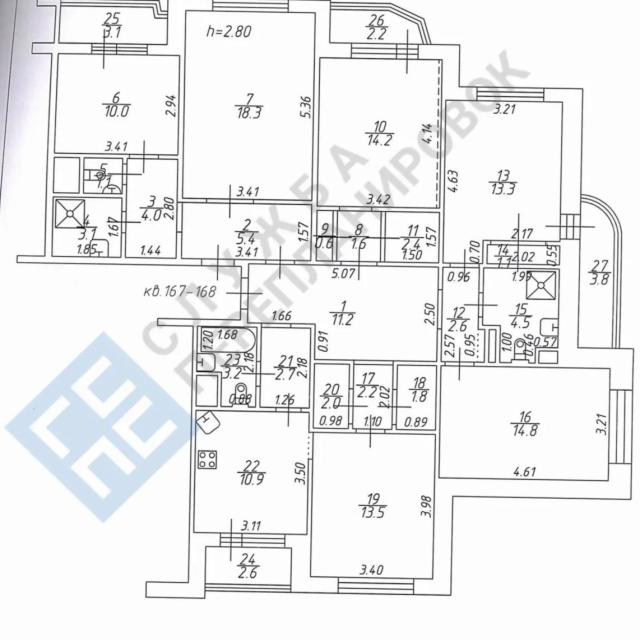Bathrooms: (484, 268, 559, 362), (197, 327, 257, 406), (53, 197, 122, 256), (83, 158, 122, 193)
Corridors: (249, 265, 438, 360), (182, 203, 311, 260), (578, 202, 613, 348), (126, 159, 177, 257), (260, 328, 310, 408), (442, 268, 484, 361), (59, 7, 167, 43), (330, 10, 423, 44), (206, 548, 291, 584), (385, 212, 439, 262), (353, 366, 392, 428), (397, 366, 436, 428), (314, 364, 349, 428), (338, 212, 381, 260), (488, 246, 560, 264), (317, 211, 333, 260)
Doors: (490, 213, 547, 274), (313, 211, 352, 261), (366, 211, 401, 262), (206, 184, 254, 219), (545, 213, 597, 240), (333, 388, 369, 424), (377, 389, 413, 425), (202, 243, 235, 282), (341, 247, 377, 282), (225, 277, 264, 309), (129, 139, 159, 174), (265, 245, 295, 280), (445, 347, 474, 382), (92, 29, 117, 69), (397, 29, 419, 74), (220, 518, 242, 563), (450, 248, 479, 282), (356, 414, 385, 448), (275, 392, 302, 428), (240, 361, 277, 387), (464, 293, 499, 317), (106, 211, 142, 233), (106, 164, 143, 185), (437, 289, 442, 329), (339, 206, 372, 212), (354, 360, 393, 365), (177, 202, 182, 232), (261, 323, 291, 328), (309, 433, 313, 459)
LBwalls: (414, 464, 633, 595), (558, 239, 635, 389), (145, 532, 221, 600), (545, 87, 583, 215), (147, 0, 212, 55), (289, 1, 351, 58), (418, 43, 477, 102), (284, 533, 338, 594), (32, 42, 92, 54), (35, 0, 61, 5)
Offices: (183, 11, 315, 200), (439, 366, 610, 480), (444, 101, 562, 263), (318, 58, 442, 207), (311, 433, 435, 578), (194, 411, 308, 534), (55, 55, 179, 155)
Walls: (17, 53, 202, 266), (157, 309, 276, 532), (253, 58, 342, 265), (372, 101, 450, 290), (385, 329, 446, 478), (158, 55, 207, 204), (291, 323, 356, 433), (473, 317, 558, 368), (479, 239, 560, 292), (234, 259, 266, 278), (307, 459, 312, 534), (53, 7, 61, 43), (546, 241, 560, 246)
Windows: (581, 194, 623, 348), (330, 0, 431, 43), (60, 1, 168, 19), (609, 389, 631, 464), (337, 577, 414, 595), (477, 87, 544, 101), (213, 0, 289, 12), (205, 583, 290, 592), (351, 43, 397, 58), (242, 533, 285, 548), (117, 43, 147, 56)
